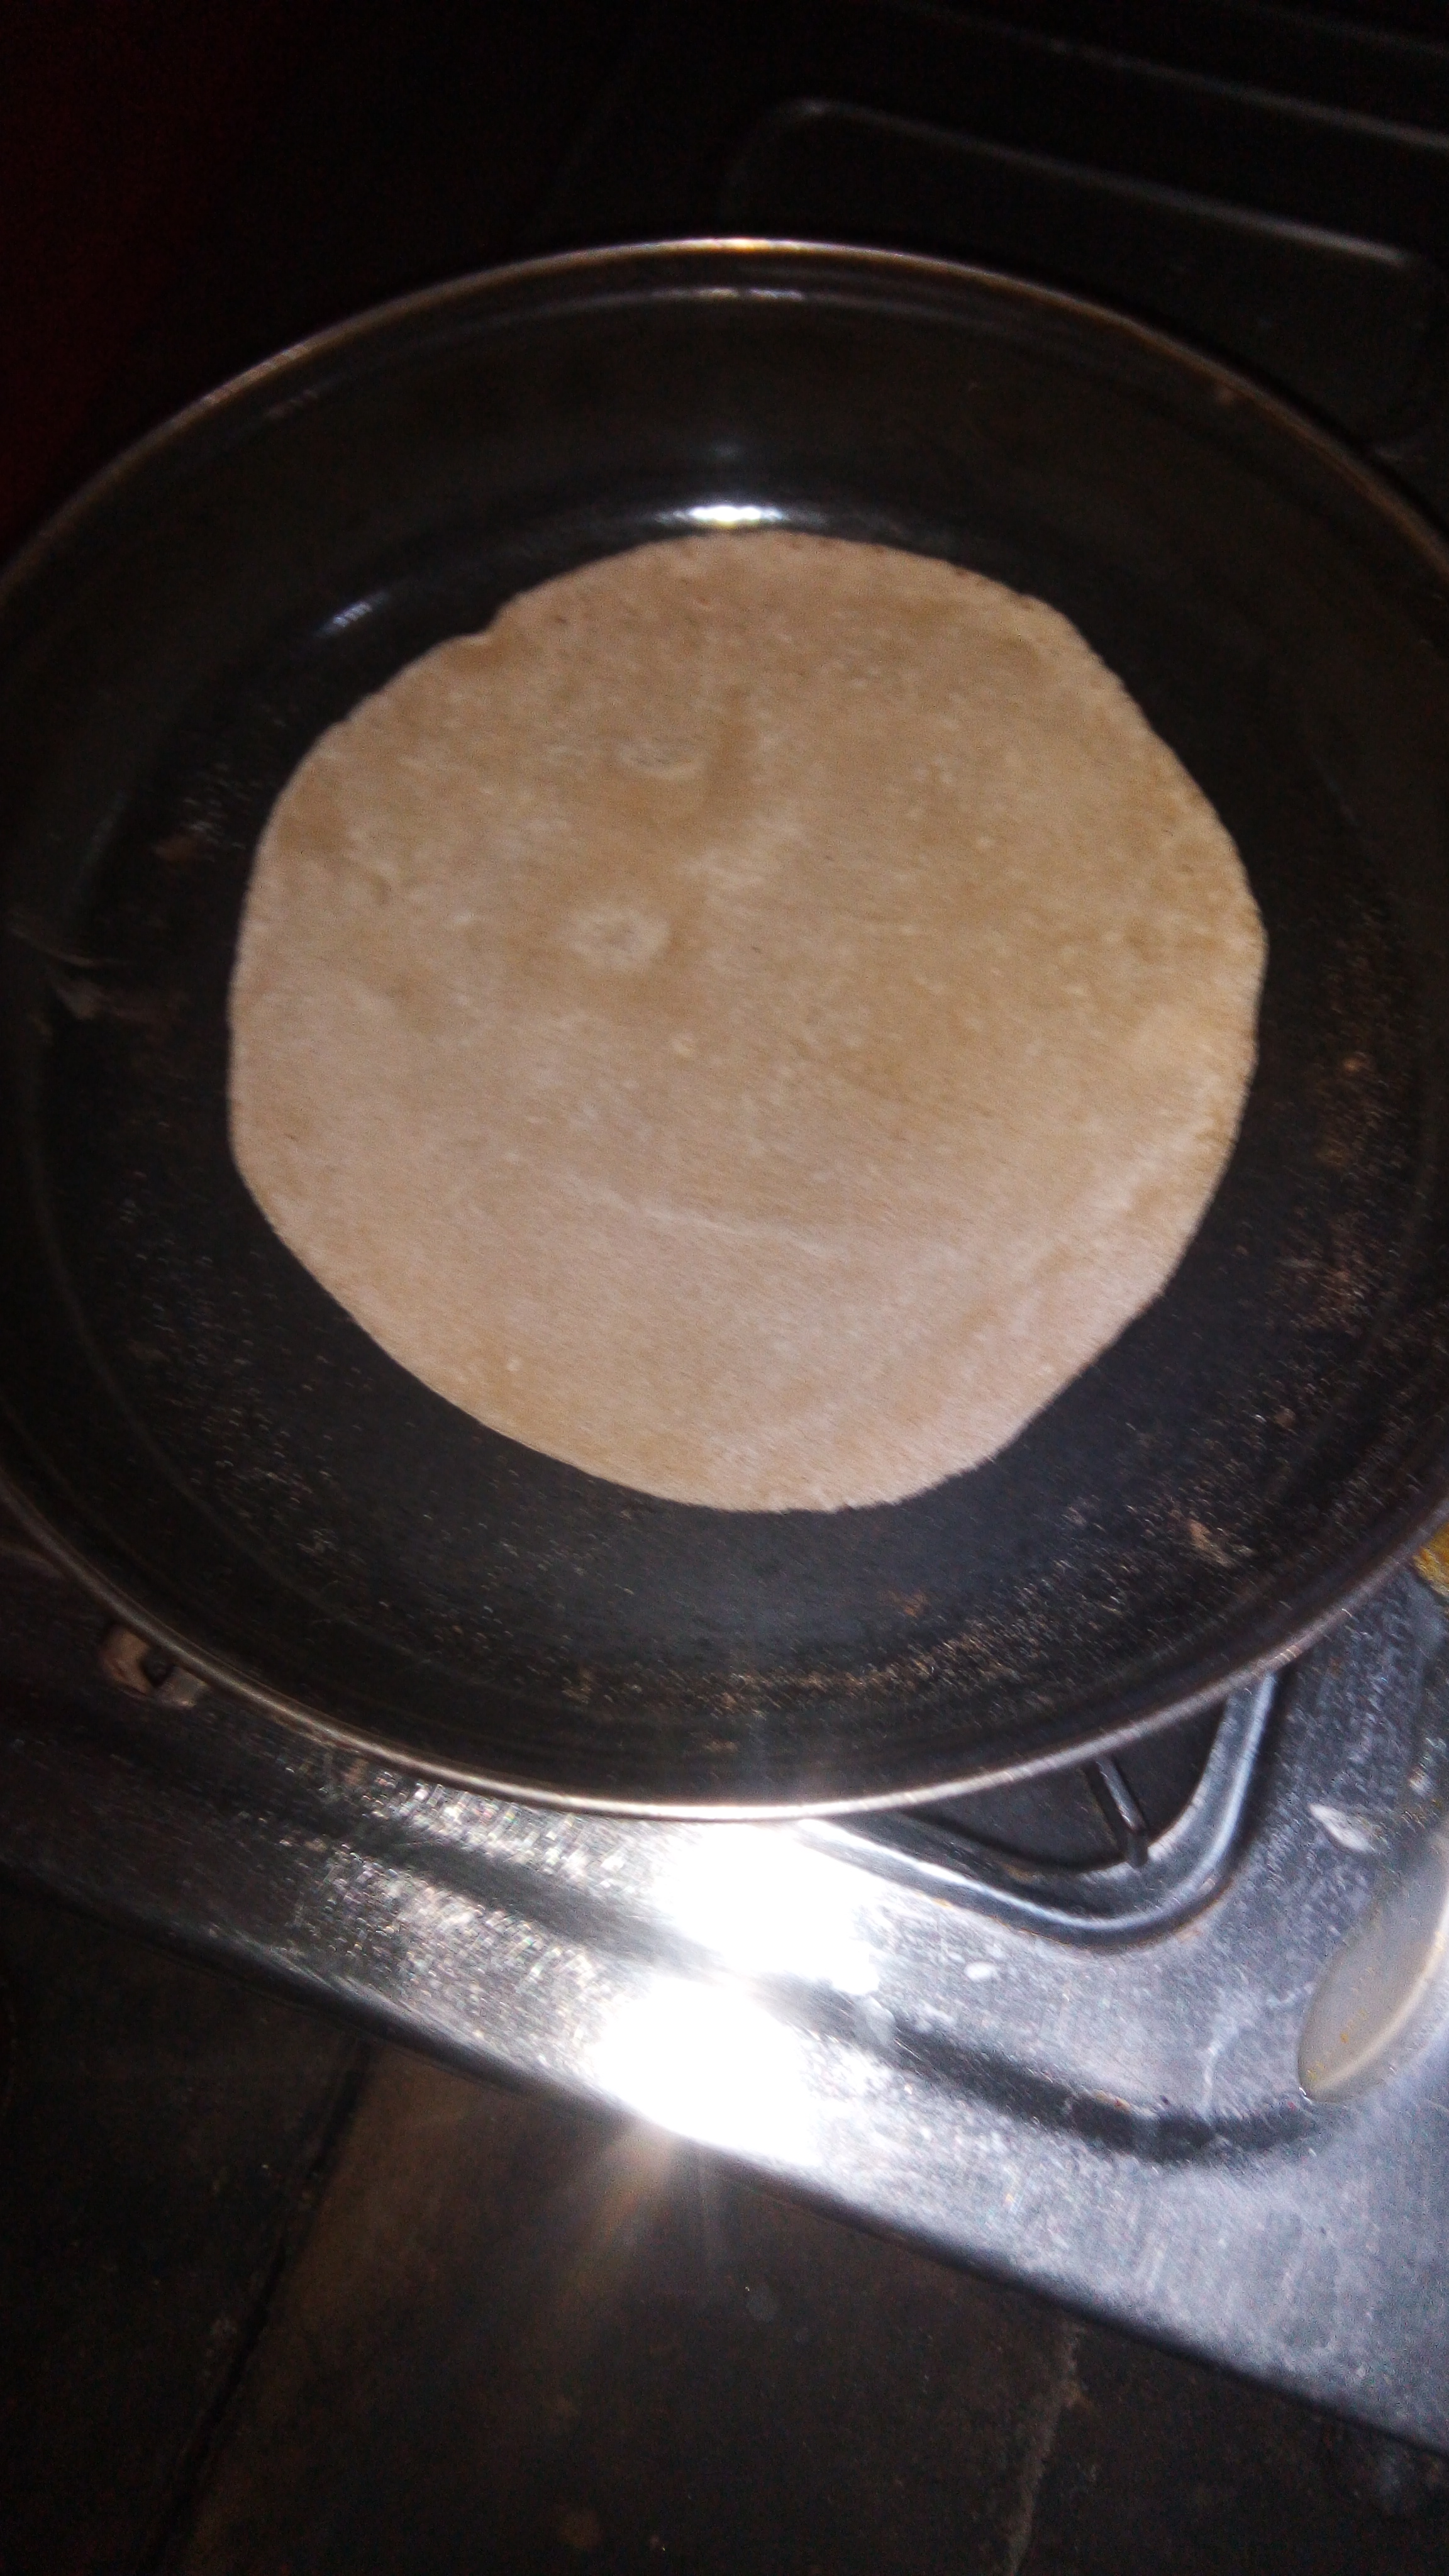food: (219, 511, 1279, 1529)
